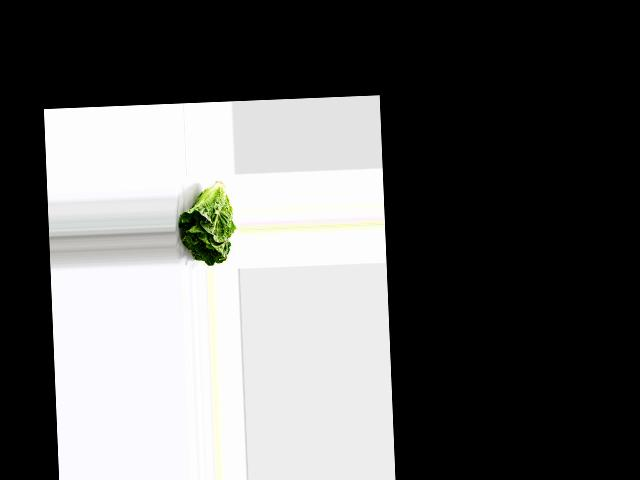lettuce: (176, 182, 238, 266)
